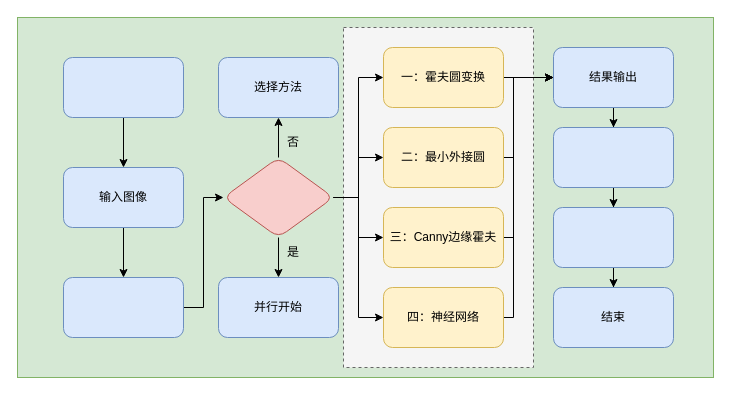
The diagram is 731 pixels wide and 395 high, and some of its shapes have lost their labels. Here are the shapes that lost their labels. From the top down, the centre of each, then its label:
At [123,87]: "开始".
At [613,157]: "指标计算与 可视化绘制".
At [278,197]: "是否开启对比模式".
At [613,237]: "前端展示与 导出".
At [123,307]: "OpenCV解码 与灰度化".
